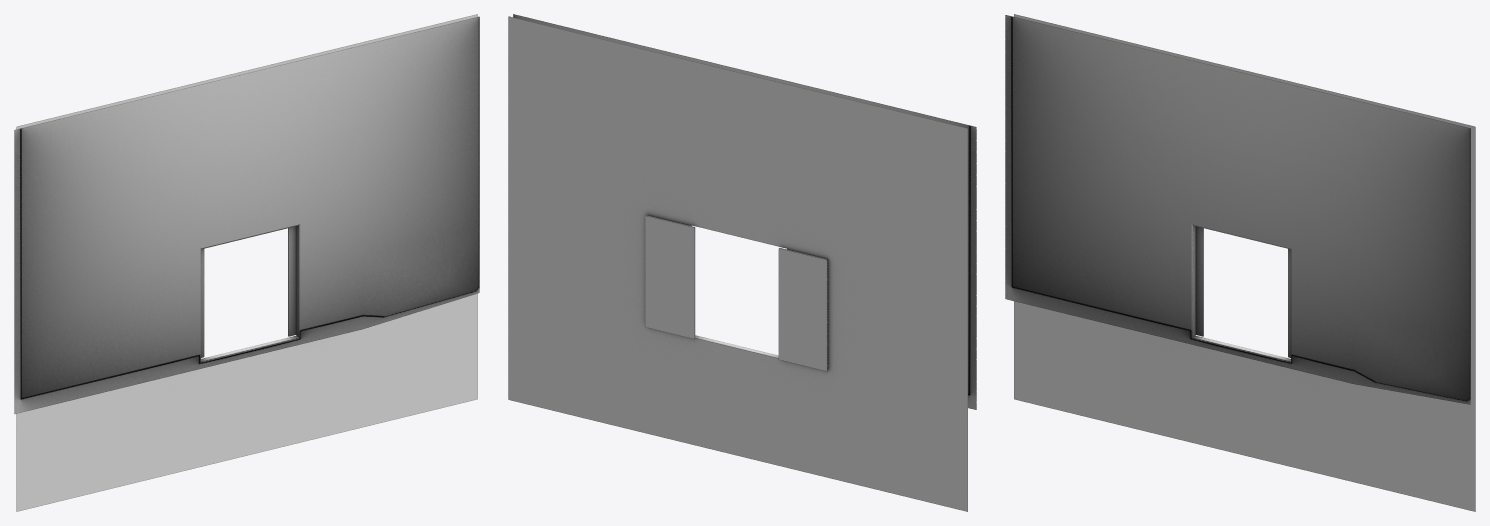
The model's file is ip3_doorway.FBX.
3 views of the same model, side by side, from view 1: azimuth 30°, elevation 25°; view 2: azimuth 150°, elevation 25°; view 3: azimuth 330°, elevation 25° (orthographic).
Parts seen in each view (by area): view 1: Plane001; view 2: Plane001; view 3: Plane001.
Boxes of the visible parts, x1=… form: Plane001: x1=14, y1=14, x2=479, y2=511; Plane001: x1=508, y1=14, x2=976, y2=511; Plane001: x1=1005, y1=14, x2=1475, y2=511.
Size of the model in its own units: 473 by 373 by 8.31.
1 material, 1 textured.
